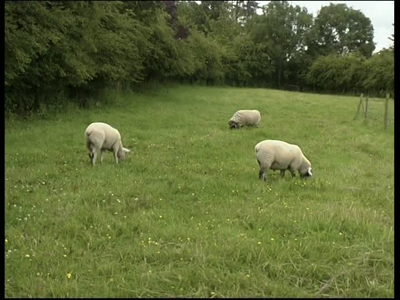koyun: (254, 139, 312, 179), (85, 121, 129, 165), (228, 109, 262, 128)
